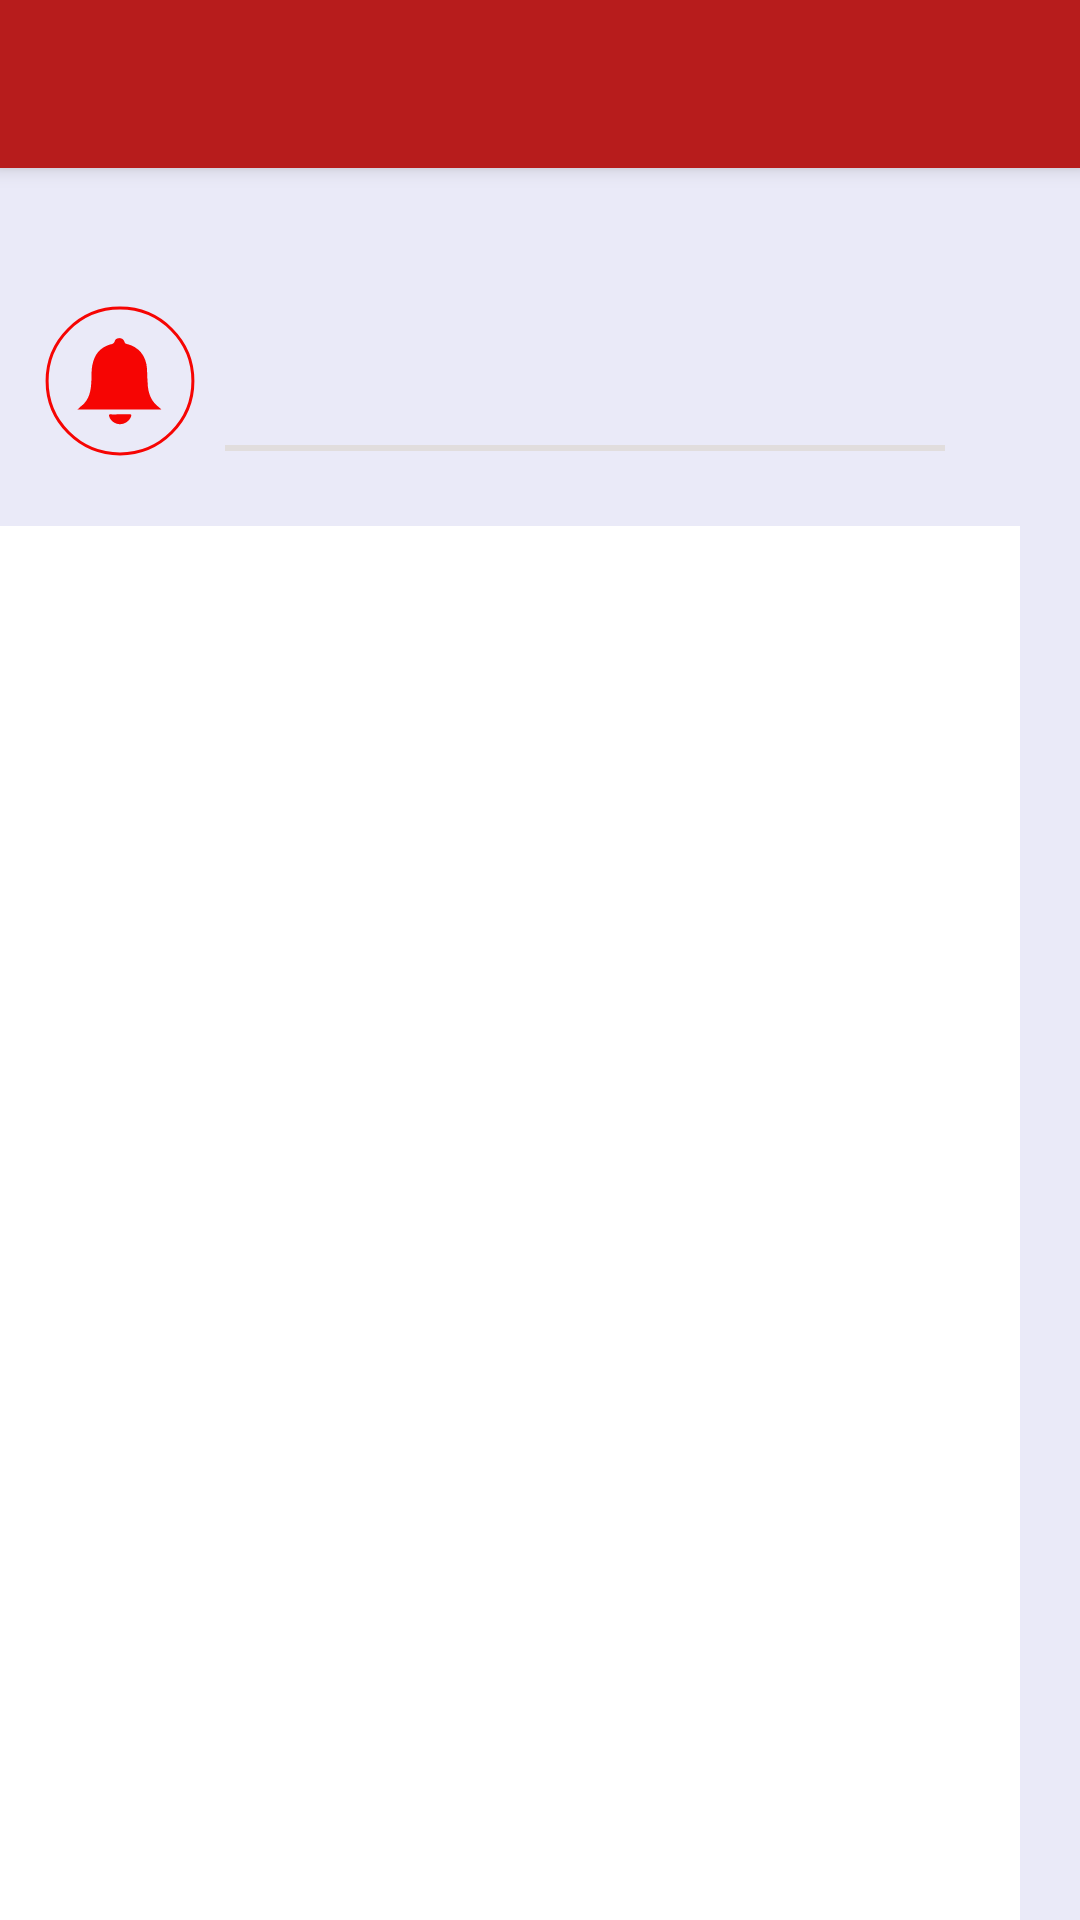

Icons on this 1080px×1920px Android screen, each with its box as (x1, y1, x2, y2):
notification: (45, 306, 195, 456)
